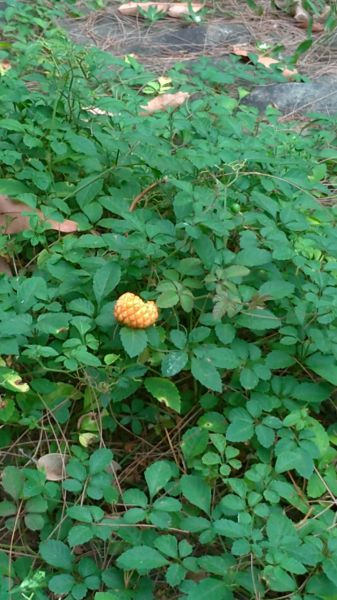eggs: (110, 283, 160, 331)
